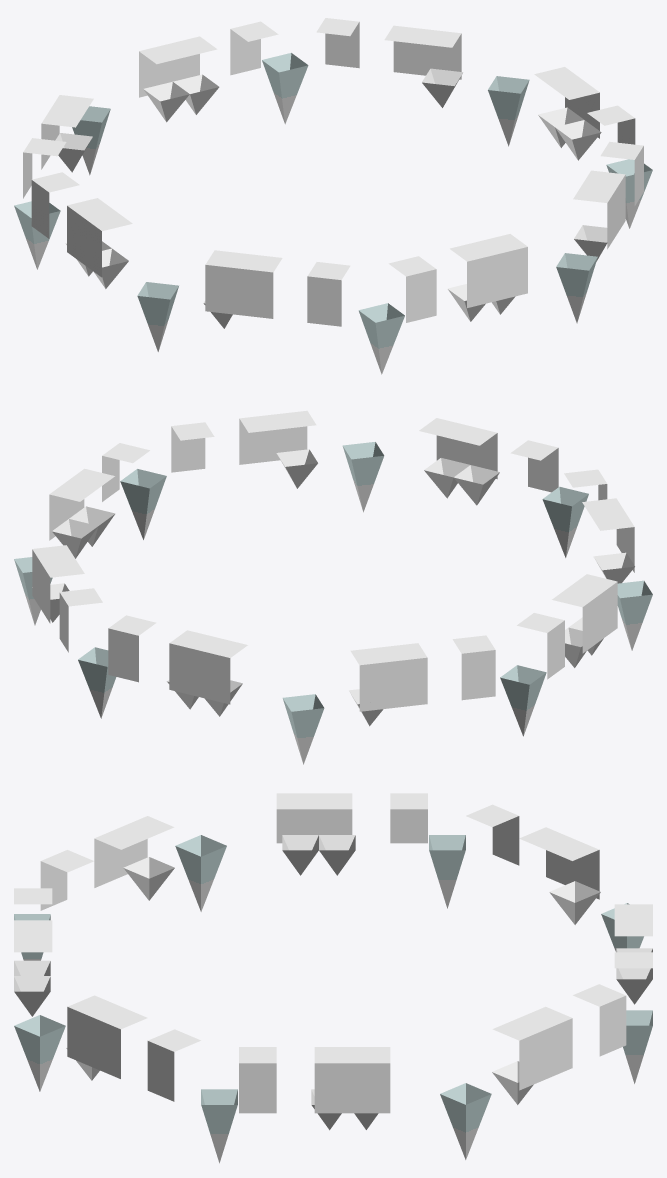
The model's file is boss_trophy_fey_winter_2.obj.
3 views of the same model, one above another, from view 1: azimuth 30°, elevation 25°; view 2: azimuth 150°, elevation 25°; view 3: azimuth 270°, elevation 25° (orthographic). The views are drawn at different scales.
Visible parts, largest first — view 1: BOSS_TROPHY_FEY_WINTER_2_Plane.008; view 2: BOSS_TROPHY_FEY_WINTER_2_Plane.008; view 3: BOSS_TROPHY_FEY_WINTER_2_Plane.008.
Boxes of the visible parts, x1,y1,x2,y2 form: BOSS_TROPHY_FEY_WINTER_2_Plane.008: [14, 18, 652, 374]; BOSS_TROPHY_FEY_WINTER_2_Plane.008: [14, 410, 652, 764]; BOSS_TROPHY_FEY_WINTER_2_Plane.008: [14, 793, 652, 1163].
Size of the model in its own units: 1.09 by 0.2031 by 1.09.
